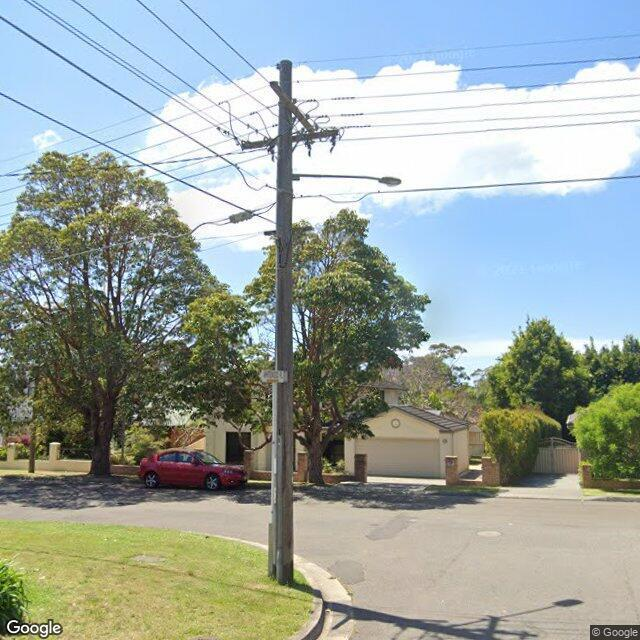crossarm: (269, 80, 316, 136), (240, 128, 339, 150)
streetlight: (289, 172, 402, 188)
timber-pole: (267, 58, 294, 584)
